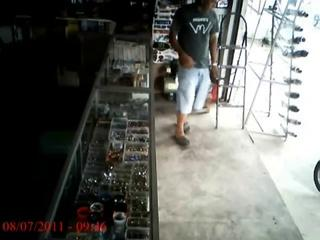Normal: (168, 0, 220, 146)
